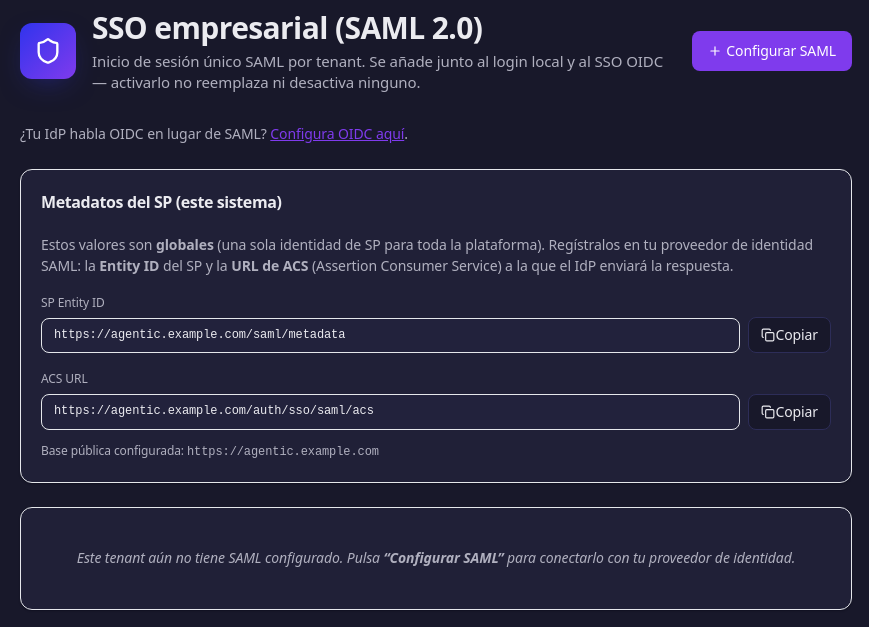
metadatos del SP a registrar en el IdP SAML › copiar el ACS escribe ESA url en el portapapeles y confirma
Expected: the text with test id "saml-acs-url" reads "https://agentic.example.com/auth/sso/saml/acs", left=54, top=404, right=374, bottom=418
Step 1. Click the button with test id "saml-acs-url-copy" → coordinates (790, 412), box left=748, top=394, right=831, bottom=430
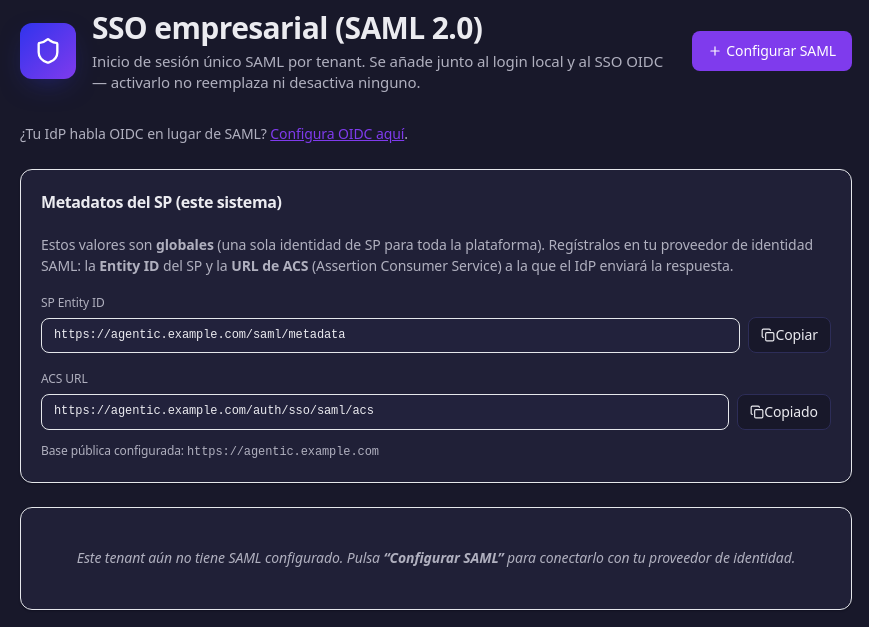
Now the button with test id "saml-acs-url-copy" reads "Copiado", box left=737, top=394, right=831, bottom=430
